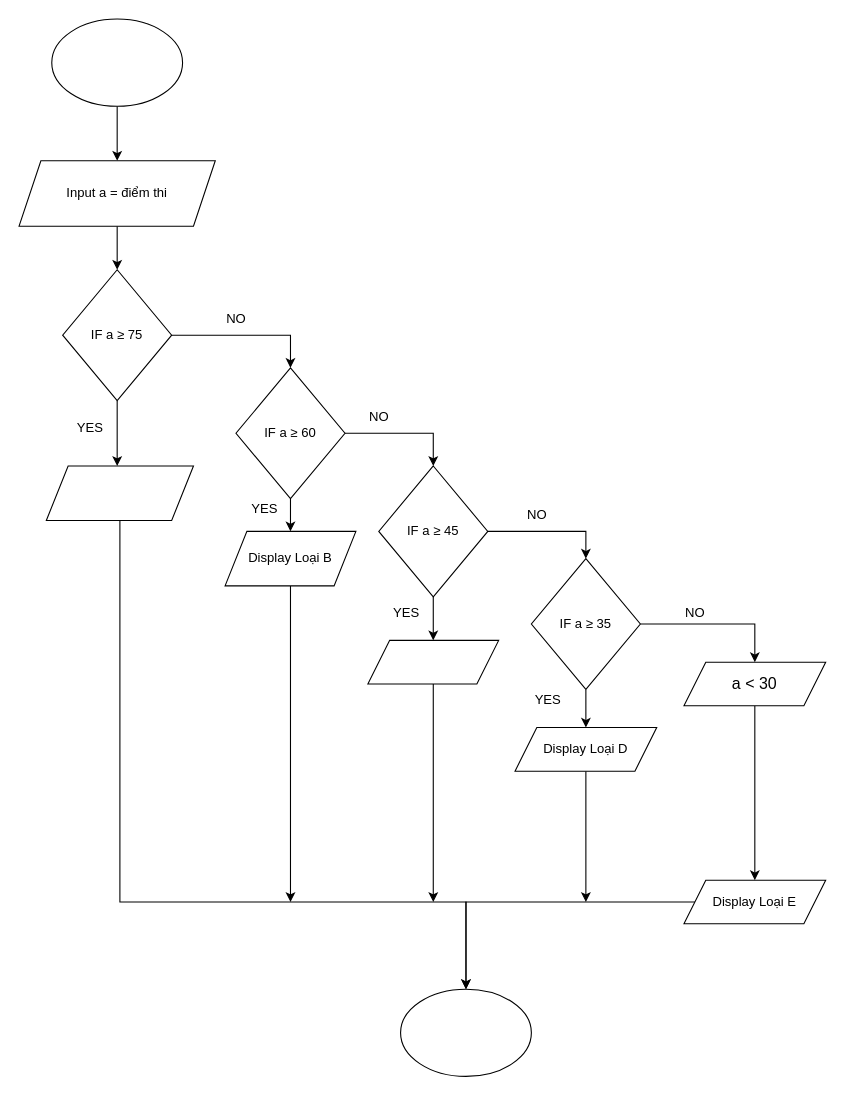
This 845x1095 diagram has some shape labels left out. The box of each missing label's shape, as (x1, y1, x2, y2) in pixels:
Display Loại A: (45, 465, 193, 520)
Display Loại C: (367, 639, 499, 684)
End: (399, 988, 531, 1076)
Start: (51, 18, 183, 106)
